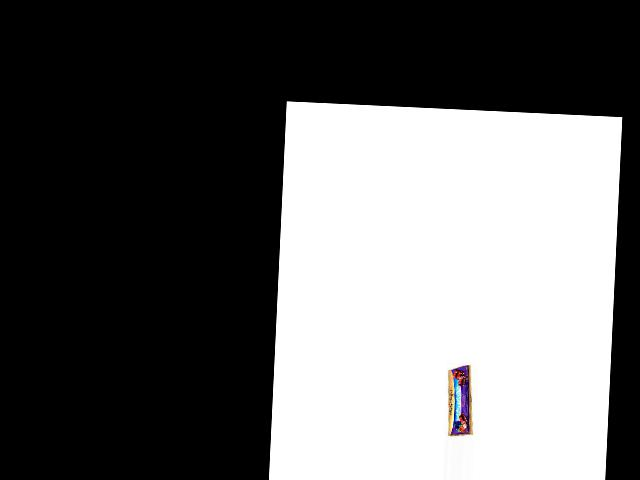chocolate: (448, 360, 476, 437)
